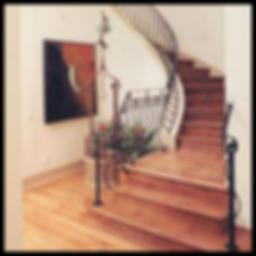Escaleras: (88, 68, 228, 245)
